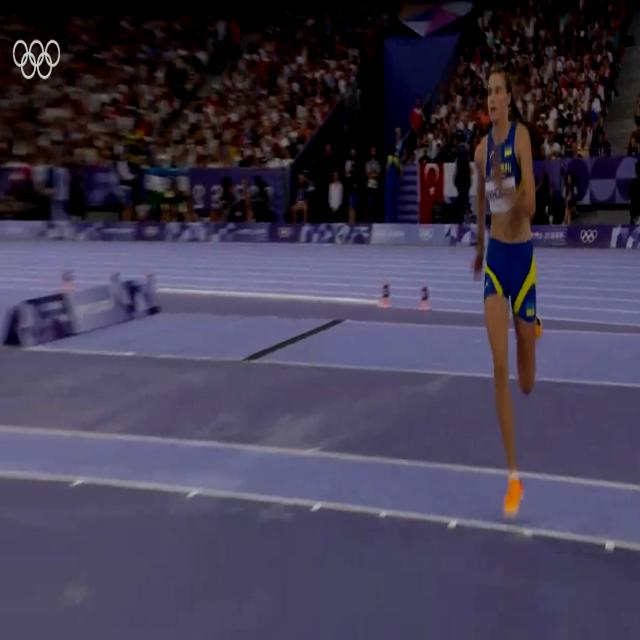run: (466, 65, 542, 520)
